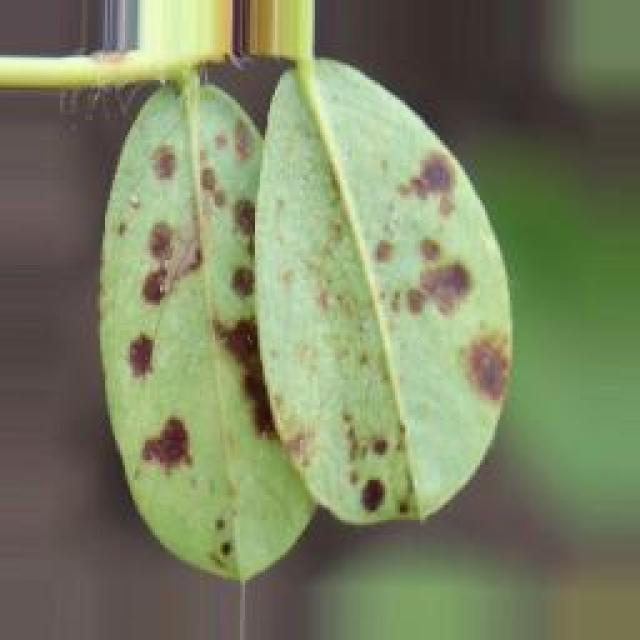Whitefly: (58, 68, 544, 560)
